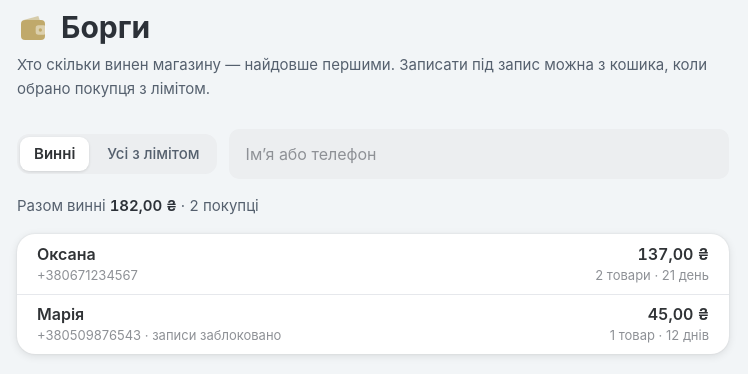
Test: the debtors › lists who owes, the total, and finds a customer by name or phone
The image size is (748, 374).
Check: the number of links is 2, box [17,234,729,294]; [17,294,729,354]
Check: the link that starts with "Марія" shows "записи заблоковано", box [17,294,729,354]
Type "050 98" into the field named "Пошук покупця" at (479, 154), box [229,129,729,179]
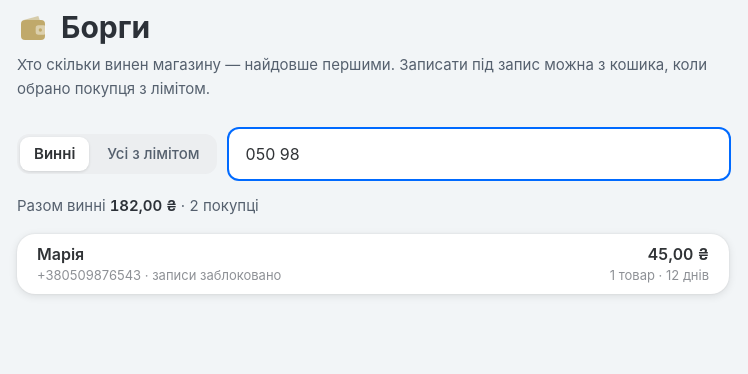
Check: the list with test id "debtors" shows "Марія", box [17,234,729,294]
Check: the number of links is 1, box [17,234,729,294]
